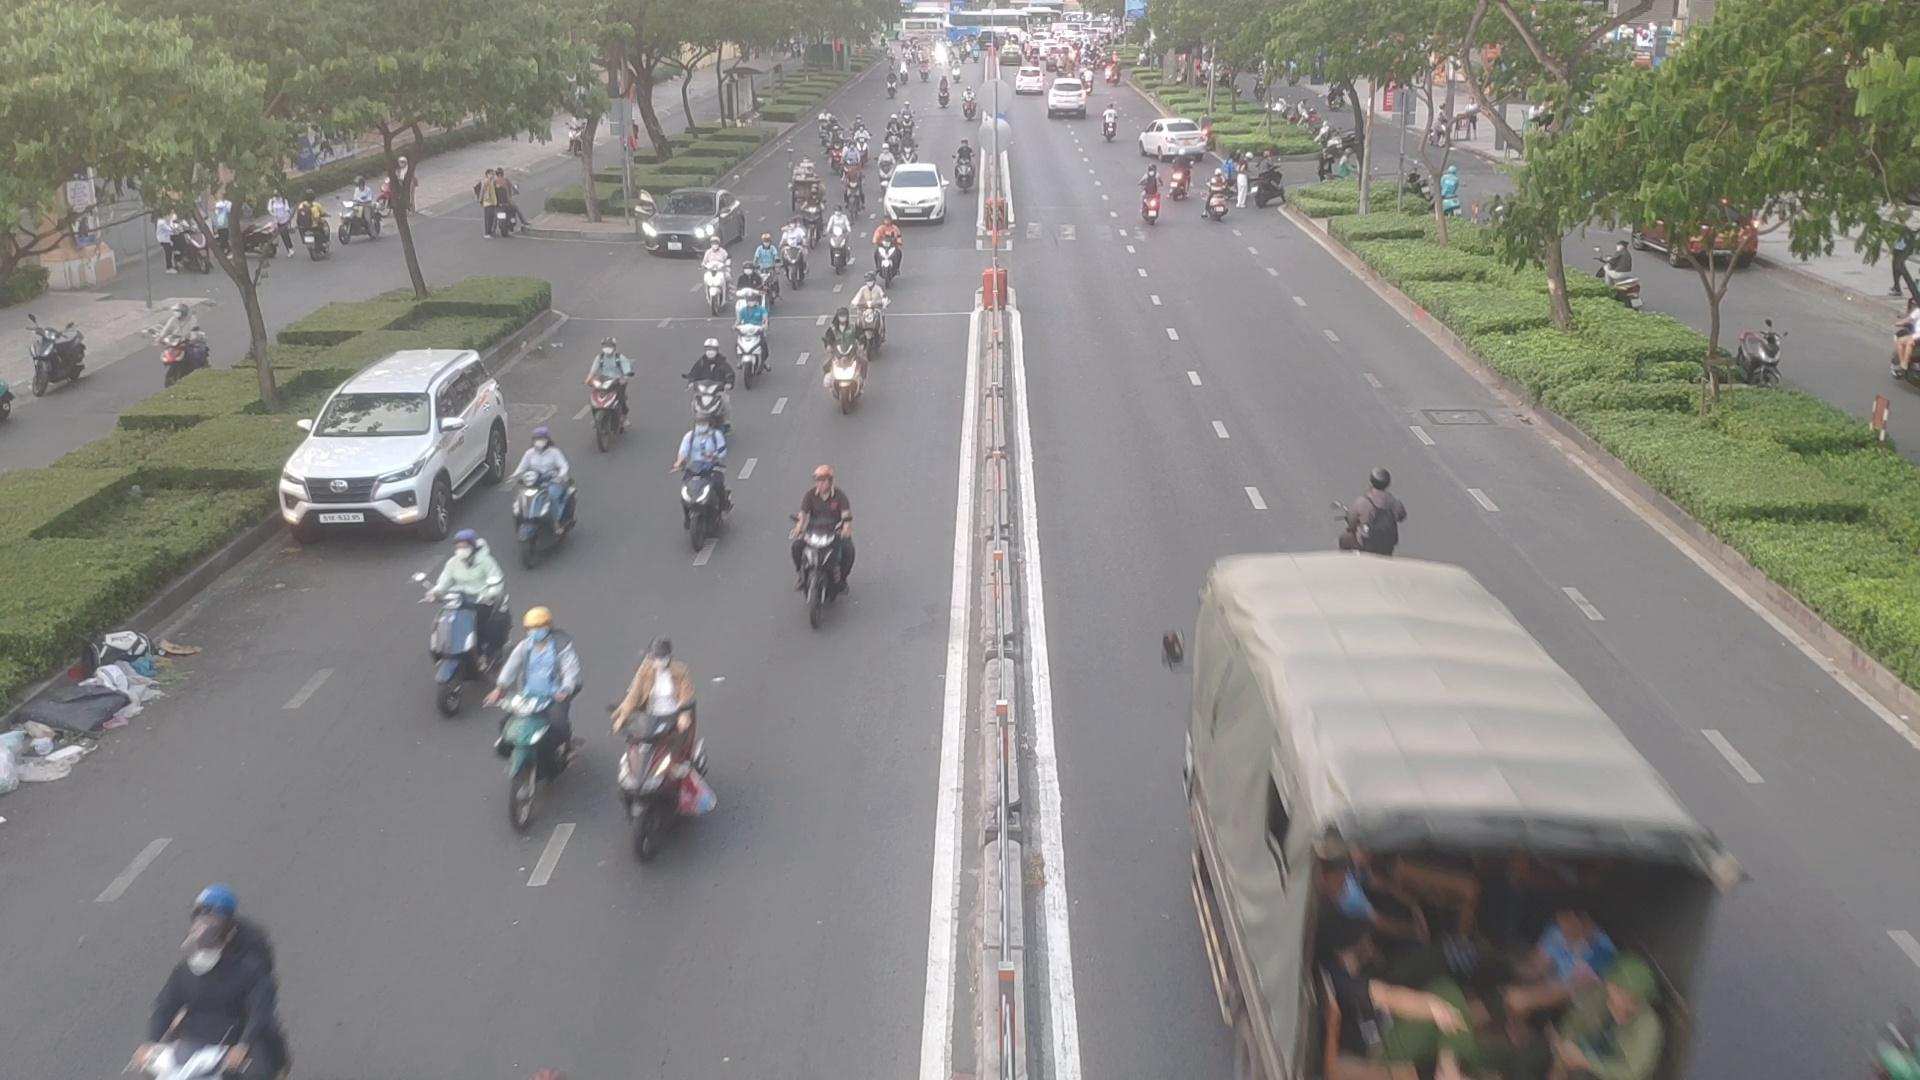car: (1189, 571, 1729, 1080), (280, 352, 518, 545), (637, 191, 746, 260), (884, 165, 949, 225), (1143, 117, 1215, 160)
motorbike: (109, 873, 313, 1080), (477, 603, 583, 833), (618, 626, 707, 868), (423, 538, 506, 724), (796, 463, 855, 646), (1323, 458, 1408, 576), (518, 436, 578, 558), (580, 343, 640, 454), (671, 425, 724, 530), (823, 306, 862, 421), (684, 343, 728, 434), (848, 269, 890, 361), (741, 295, 773, 386), (702, 237, 731, 309), (868, 210, 895, 281), (823, 211, 851, 281), (781, 218, 804, 291), (1201, 164, 1229, 224), (1139, 164, 1164, 229), (760, 237, 781, 301), (800, 189, 823, 236), (1170, 150, 1188, 200), (957, 137, 973, 195), (843, 162, 860, 214), (825, 129, 844, 175), (897, 136, 916, 170), (855, 127, 872, 165), (878, 141, 889, 183), (884, 117, 895, 148)
